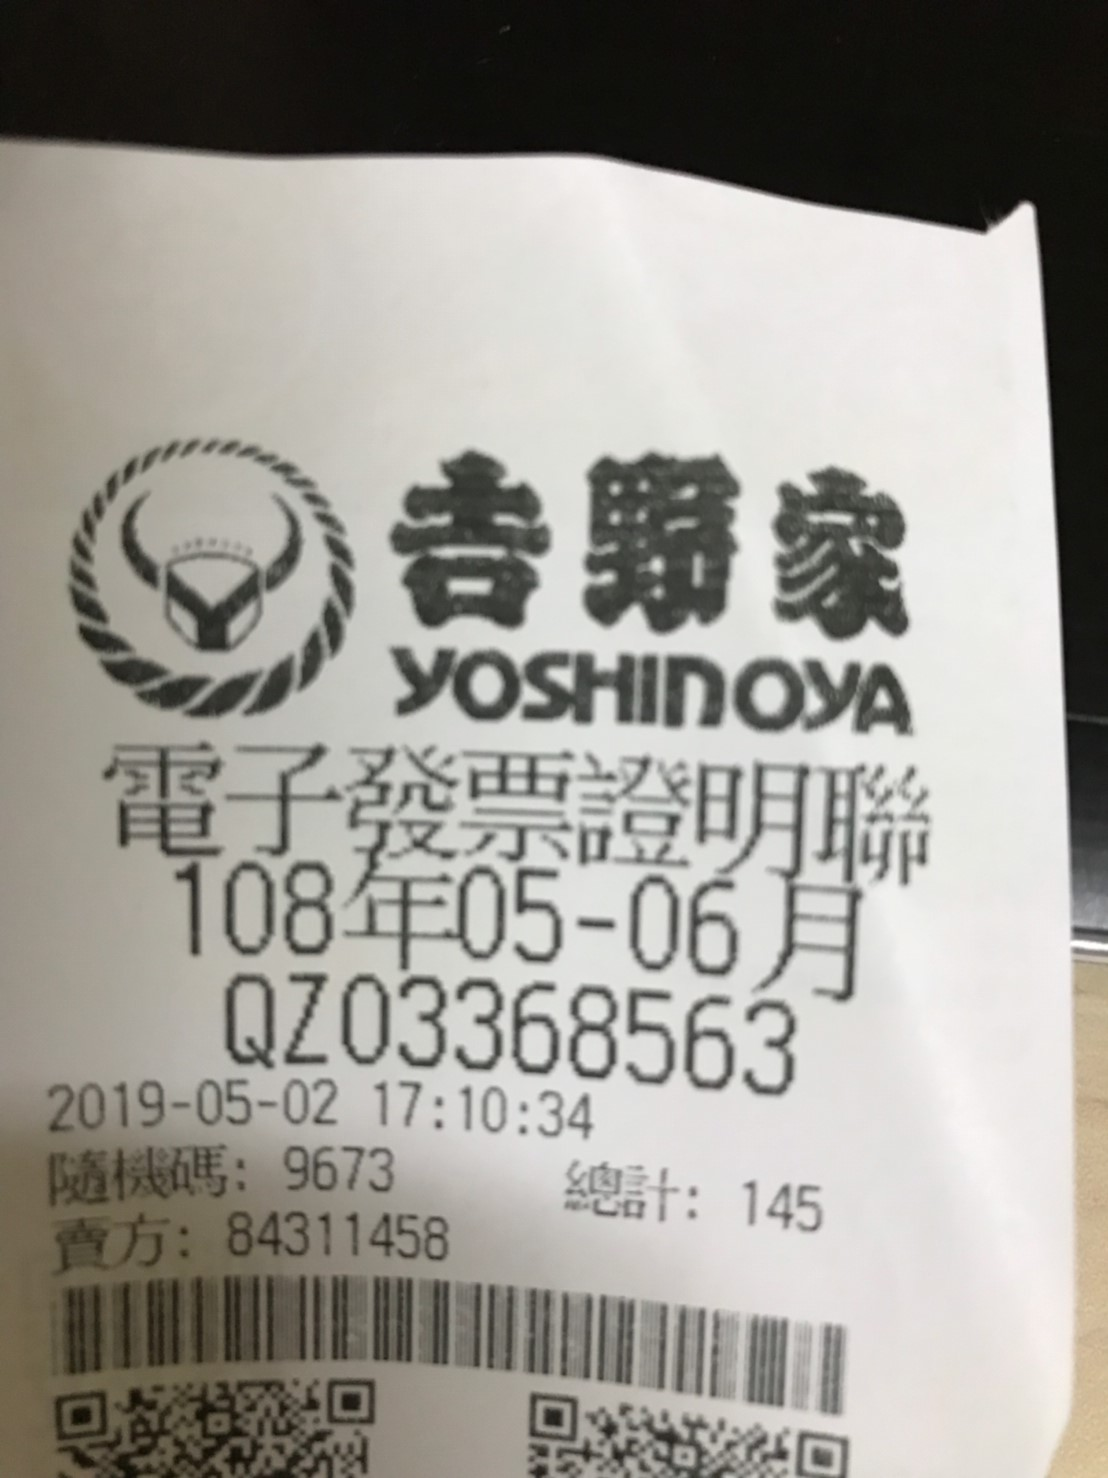Date_New: (173, 853, 871, 1004)
Number_New: (342, 969, 800, 1102)
